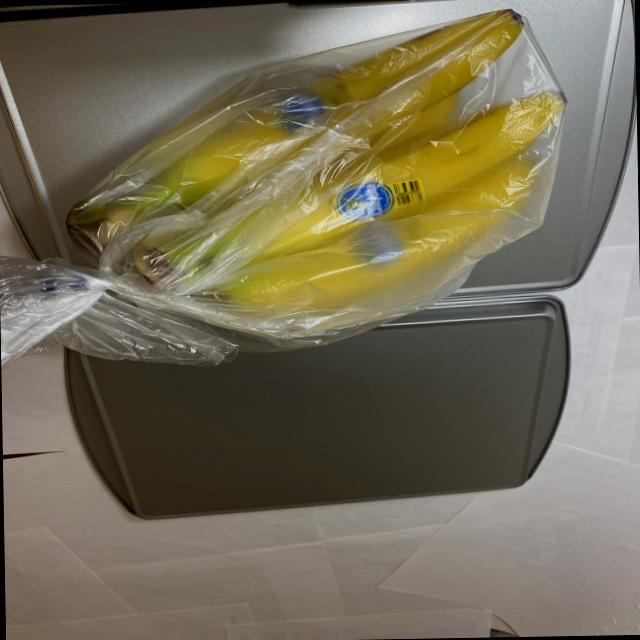banana: (59, 3, 572, 350)
